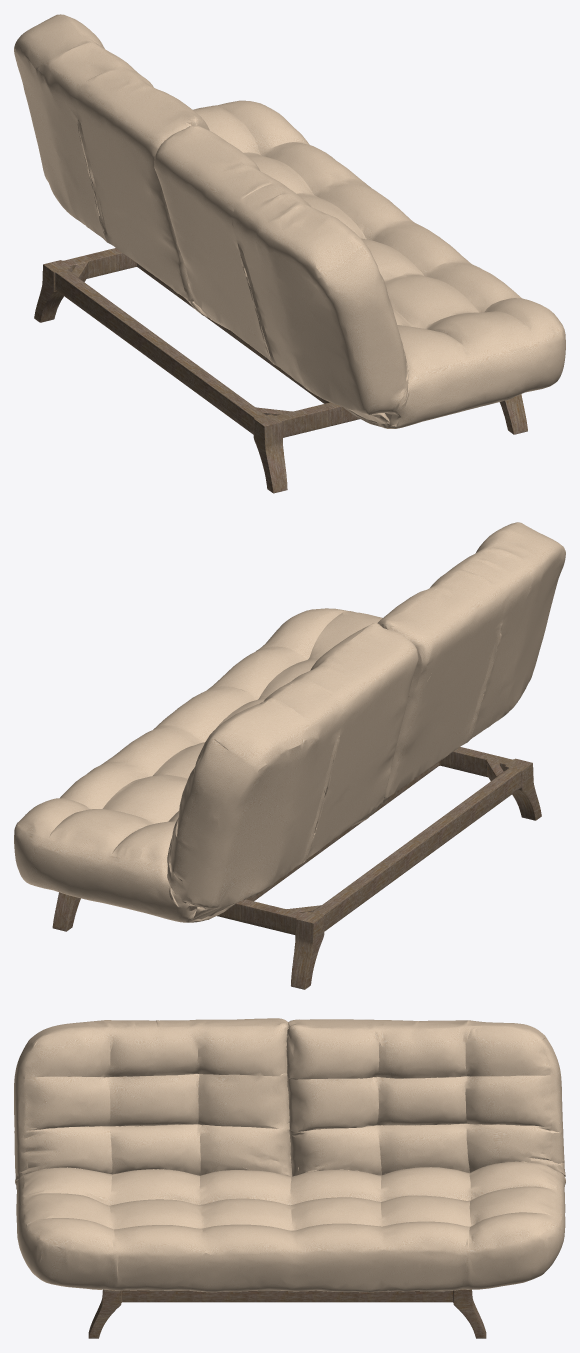
Rendered from wilsondivan.glb.
The picture shows the model from 3 angles, top to bottom: view 1: azimuth 30°, elevation 25°; view 2: azimuth 150°, elevation 25°; view 3: azimuth 270°, elevation 25°; orthographic projection. The views are drawn at different scales.
Visible parts, largest first — view 1: Диван HoReCa84 Вилсон_5; view 2: Диван HoReCa84 Вилсон_5; view 3: Диван HoReCa84 Вилсон_5.
Part boxes in pixels (box(x1,y1,x2,y2)): Диван HoReCa84 Вилсон_5: box(14, 14, 565, 493); Диван HoReCa84 Вилсон_5: box(14, 522, 565, 989); Диван HoReCa84 Вилсон_5: box(14, 1018, 565, 1338).
Bounding box in the file's own units: 0.9652 × 0.9156 × 2.
2 materials, 2 textured.
